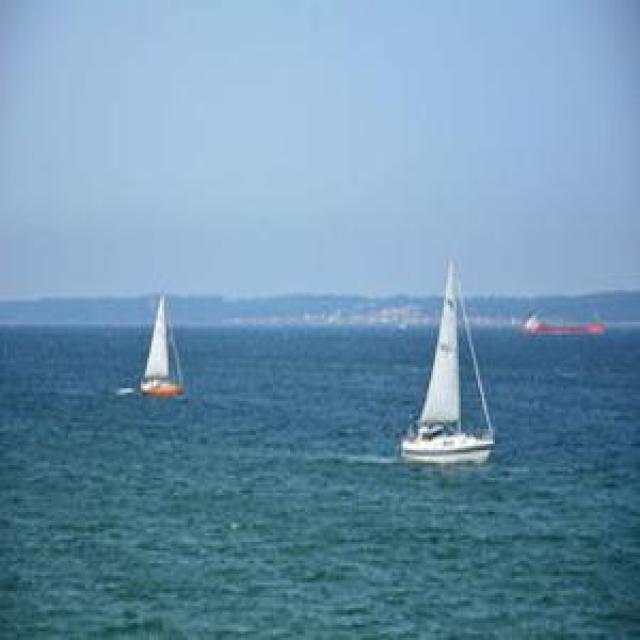cargoship: (510, 303, 616, 338)
sailboat: (397, 244, 499, 469), (134, 288, 190, 400)
